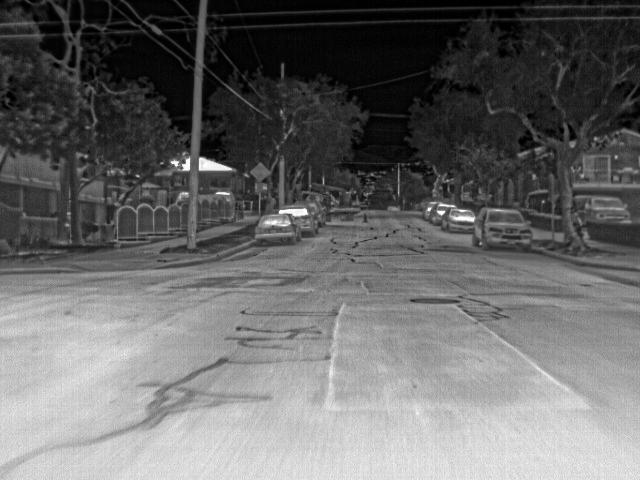car: (472, 205, 534, 253), (253, 212, 300, 246), (580, 194, 632, 221), (280, 202, 319, 236), (440, 208, 475, 234), (307, 201, 330, 226), (429, 203, 449, 225), (420, 200, 437, 219)
person: (65, 210, 74, 243)
